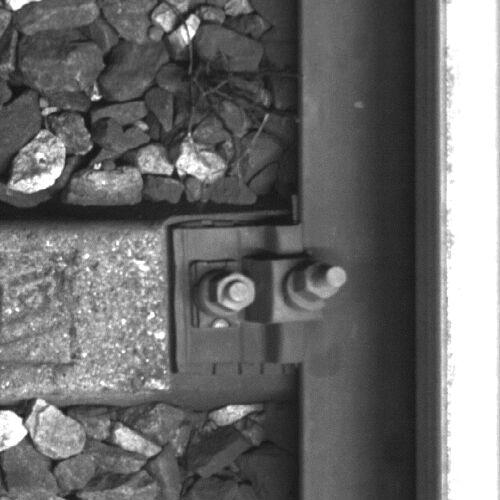kb: (183, 225, 351, 367)
nut: (292, 261, 347, 302), (211, 272, 258, 313)
rail: (439, 1, 500, 500)
tie_concr: (1, 224, 292, 390)
